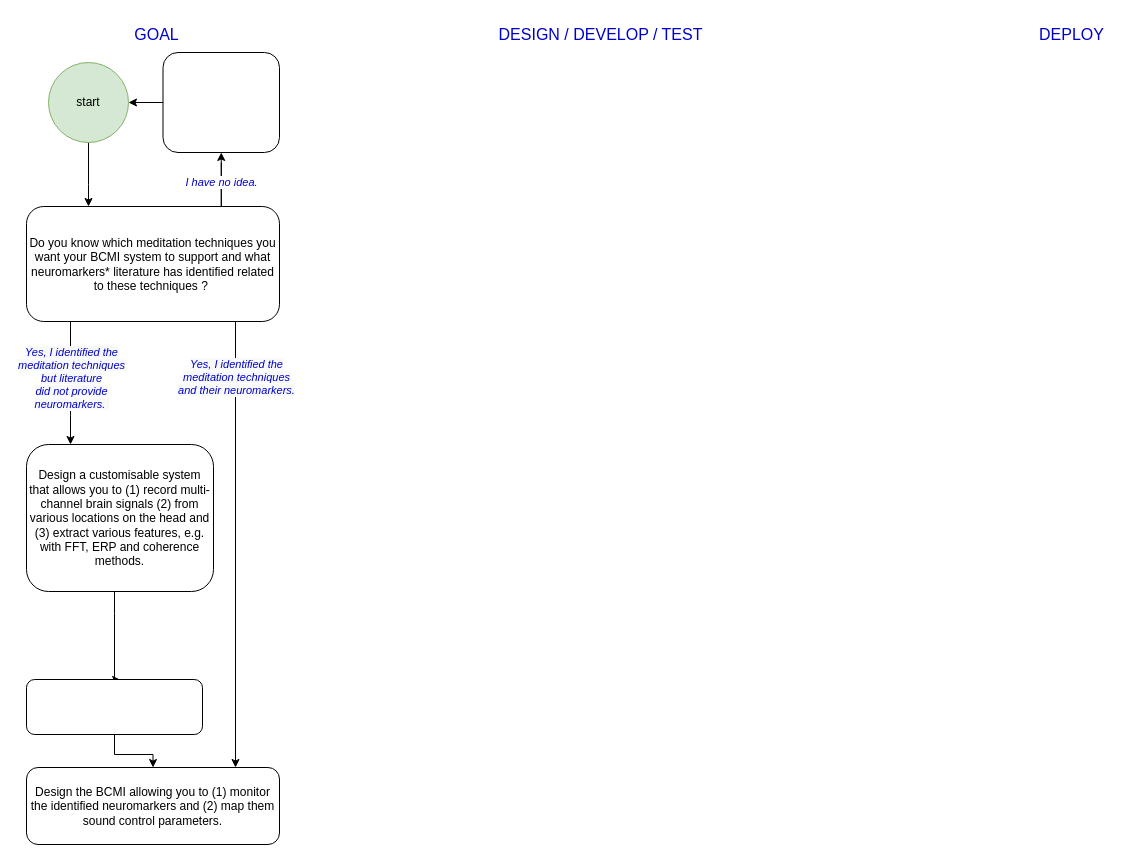
Image size: 1132x862. Some labels were removed from this diagram. Each missing label, with the centre of its shape:
"Do some literature review and start again." goes at pixel 221 102.
"Use your customisable system to identify the neuromarkers needed." goes at pixel 114 706.
